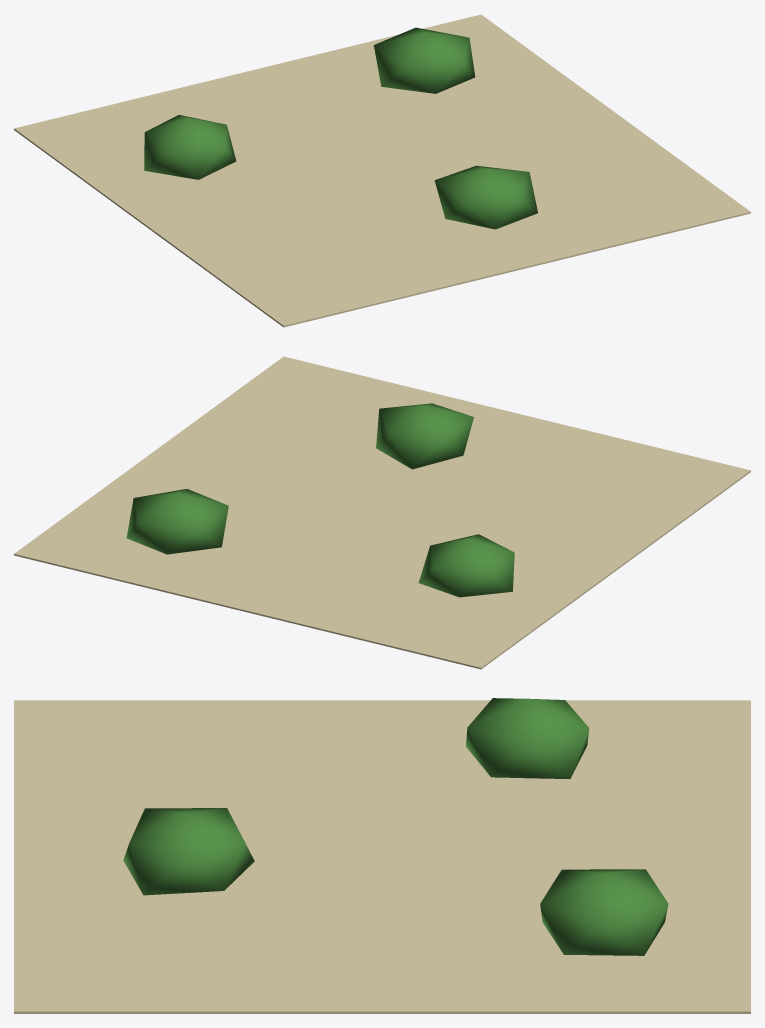
Rendered from archive_light_shaft.glb.
The picture shows the model from 3 angles, top to bottom: view 1: azimuth 30°, elevation 25°; view 2: azimuth 150°, elevation 25°; view 3: azimuth 270°, elevation 25°; orthographic projection. The views are drawn at different scales.
Visible parts, largest first — view 1: lit_floor; view 2: lit_floor; view 3: lit_floor.
Boxes of the visible parts, x1,y1,x2,y2 form: lit_floor: (14, 14, 750, 327); lit_floor: (14, 356, 750, 669); lit_floor: (14, 698, 750, 1013).
Size of the model in its own units: 3 by 0.3514 by 3.
